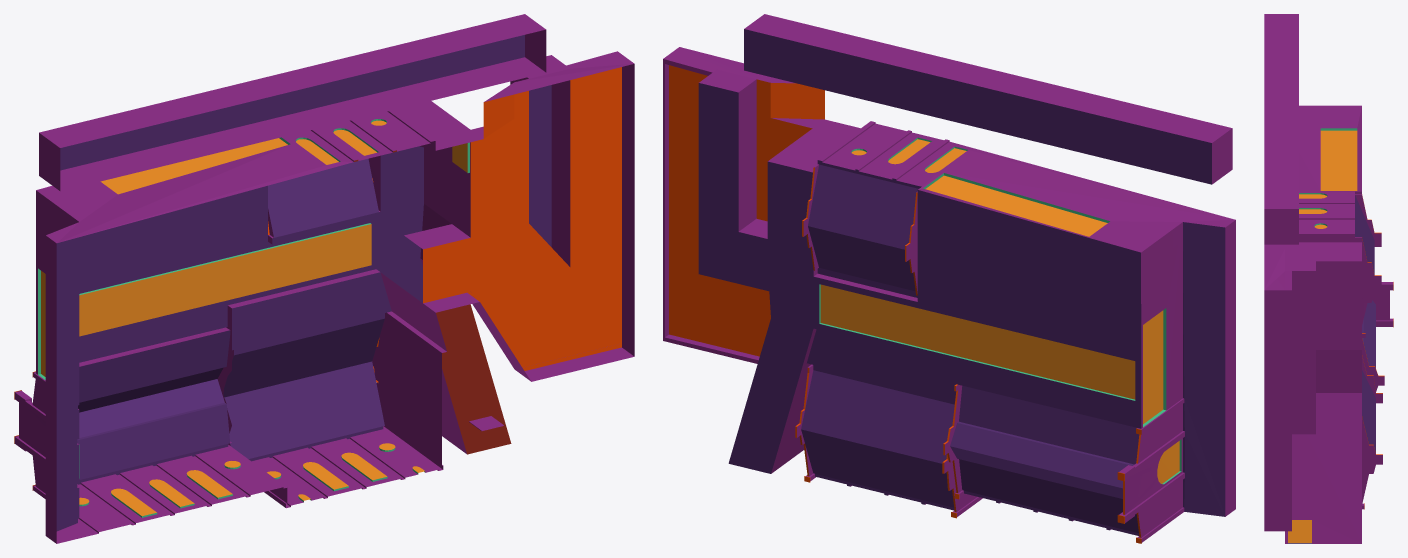
The model's file is Mazowiecie Centrum Sztuki Współczesnej Tier 3.fbx.
The picture shows the model from 3 angles, left to right: view 1: azimuth 30°, elevation 25°; view 2: azimuth 150°, elevation 25°; view 3: azimuth 270°, elevation 25°; orthographic projection. The views are drawn at different scales.
Visible parts, largest first — view 1: Mazowieckie_Centrum; view 2: Mazowieckie_Centrum; view 3: Mazowieckie_Centrum.
Boxes of the visible parts, left/top/right/bottom form: Mazowieckie_Centrum: left=14, top=14, right=634, bottom=543; Mazowieckie_Centrum: left=663, top=14, right=1235, bottom=543; Mazowieckie_Centrum: left=1264, top=14, right=1393, bottom=543.
Size of the model in its own units: 4.09 by 2.83 by 0.9658.
